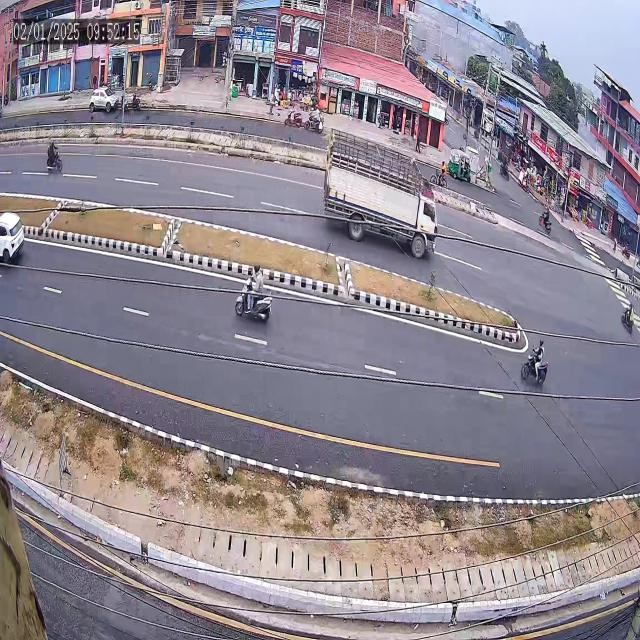auto: (448, 142, 480, 188)
car: (81, 83, 122, 120)
motorcycle: (229, 255, 287, 328), (520, 321, 556, 400), (42, 128, 74, 185), (607, 288, 637, 345), (536, 200, 562, 244), (280, 100, 304, 134)
truck: (320, 121, 450, 268)
